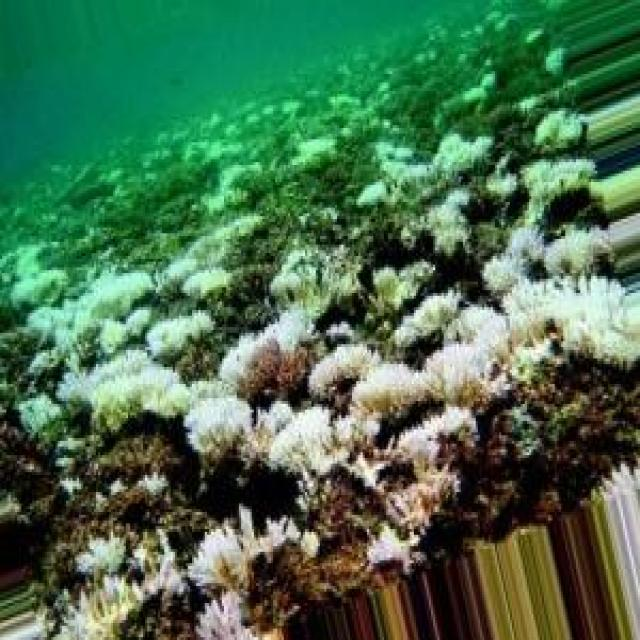bleached coral: (222, 310, 314, 401), (270, 245, 361, 319)
